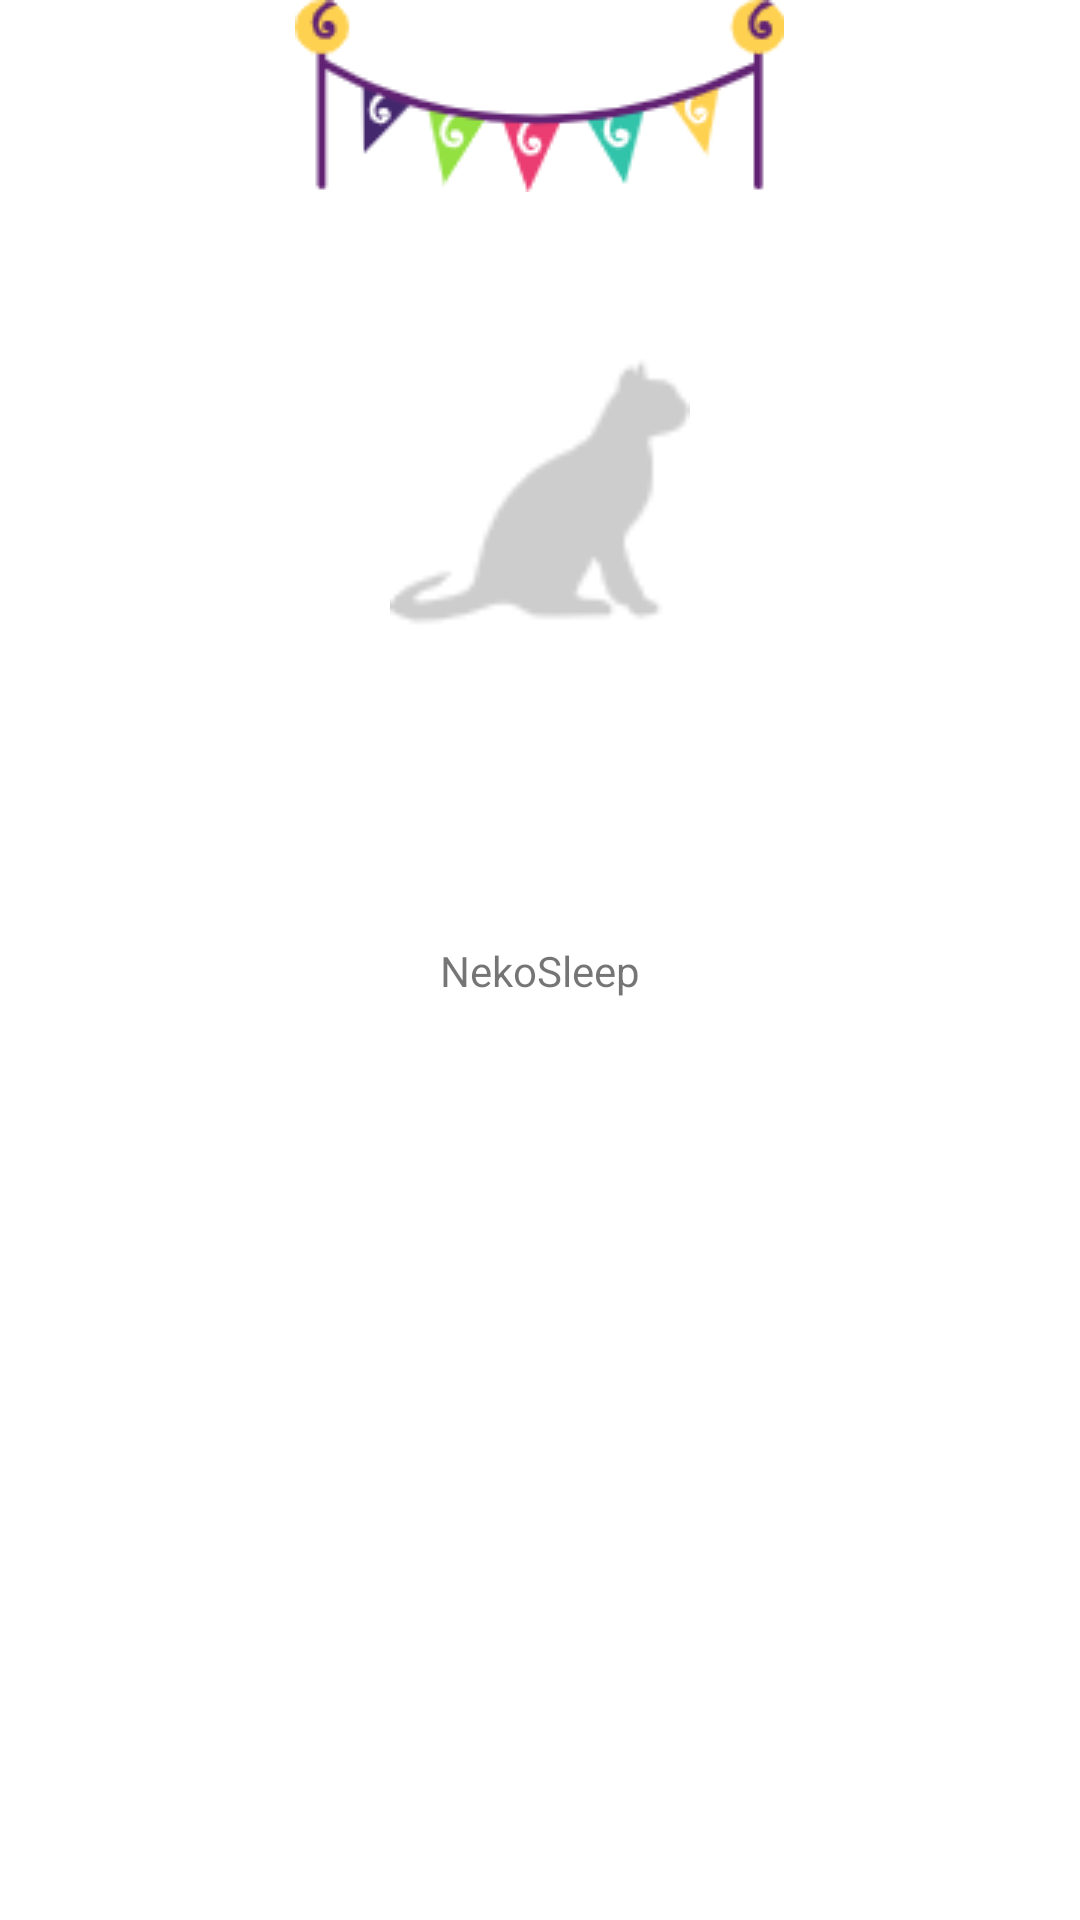

Icon bounding boxes for this 1080 × 1920 phone screenshot, format (x1, y1, x2, y2):
cat: (390, 364, 690, 621)
